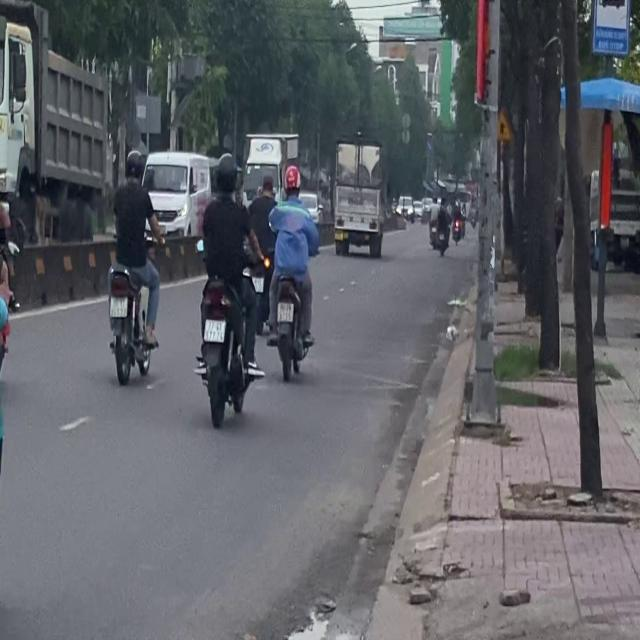helmet: (213, 152, 237, 194), (123, 149, 143, 182), (282, 163, 300, 197)
licenseplate: (192, 150, 259, 424), (104, 147, 161, 383), (263, 162, 318, 379)
nohelmet: (204, 319, 224, 341), (110, 297, 126, 316), (277, 301, 292, 320)
